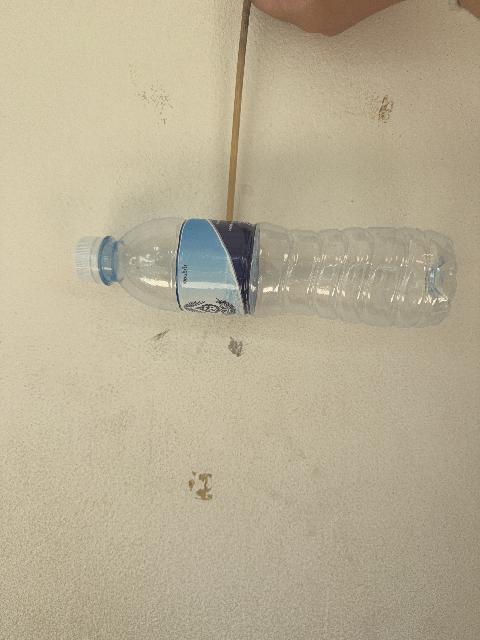bottle: (74, 218, 455, 327)
